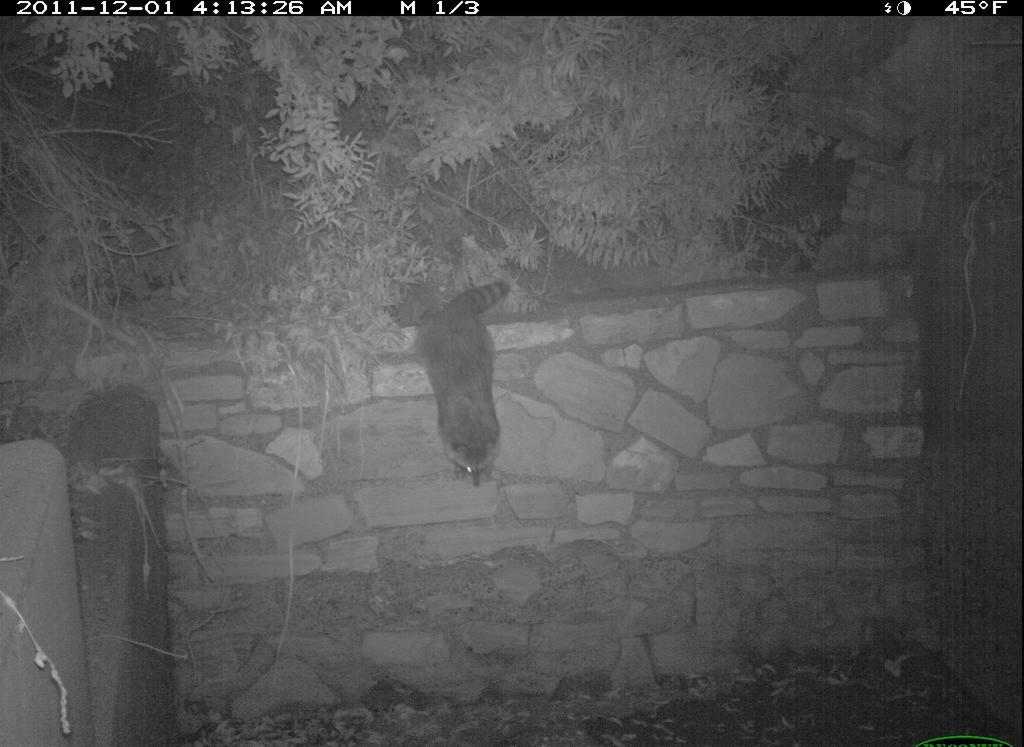raccoon: (408, 264, 551, 504)
